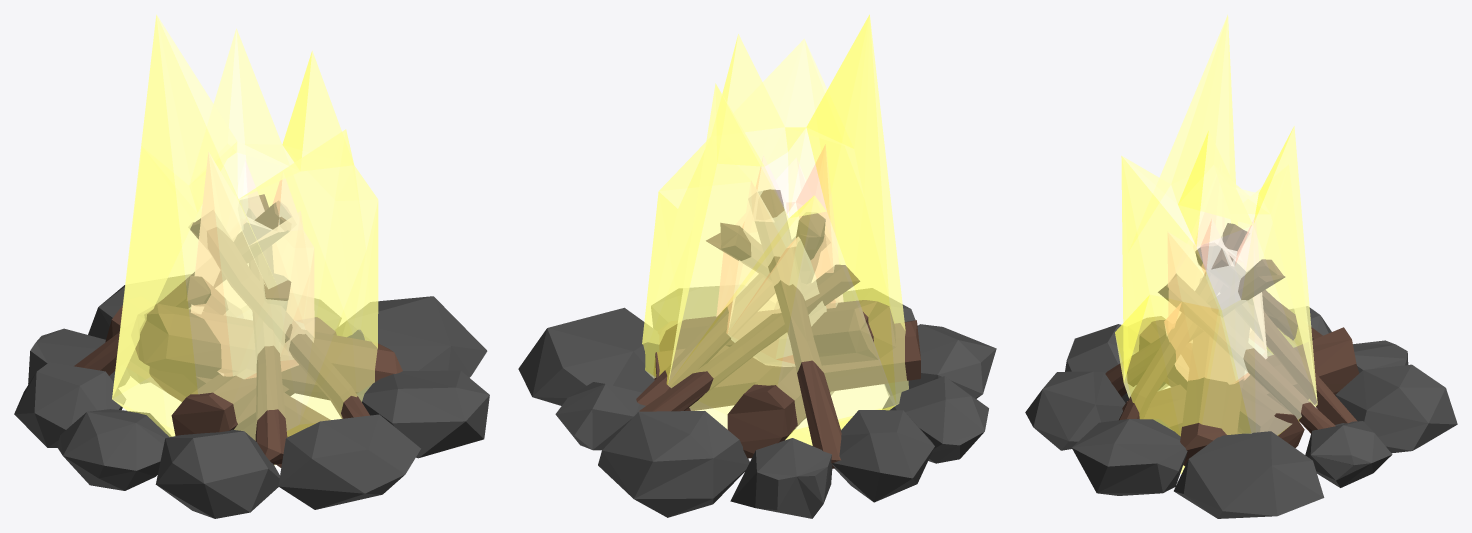
File: campfire.glb
3 views of the same model, side by side, from view 1: azimuth 30°, elevation 25°; view 2: azimuth 150°, elevation 25°; view 3: azimuth 270°, elevation 25° (orthographic). The views are drawn at different scales.
Visible parts, largest first — view 1: Fire_2, Stones_0, logs_1; view 2: Fire_2, Stones_0, logs_1; view 3: Fire_2, Stones_0, logs_1.
Boxes of the visible parts, left/top/right/bottom form: Fire_2: left=112, top=14, right=378, bottom=469; Stones_0: left=14, top=274, right=489, bottom=518; logs_1: left=74, top=194, right=402, bottom=467; Fire_2: left=642, top=14, right=908, bottom=445; Stones_0: left=518, top=286, right=996, bottom=518; logs_1: left=636, top=189, right=920, bottom=468; Fire_2: left=1115, top=14, right=1317, bottom=474; Stones_0: left=1025, top=306, right=1457, bottom=518; logs_1: left=1105, top=223, right=1359, bottom=465.
Size of the model in its own units: 0.6689 by 0.692 by 0.6674.
